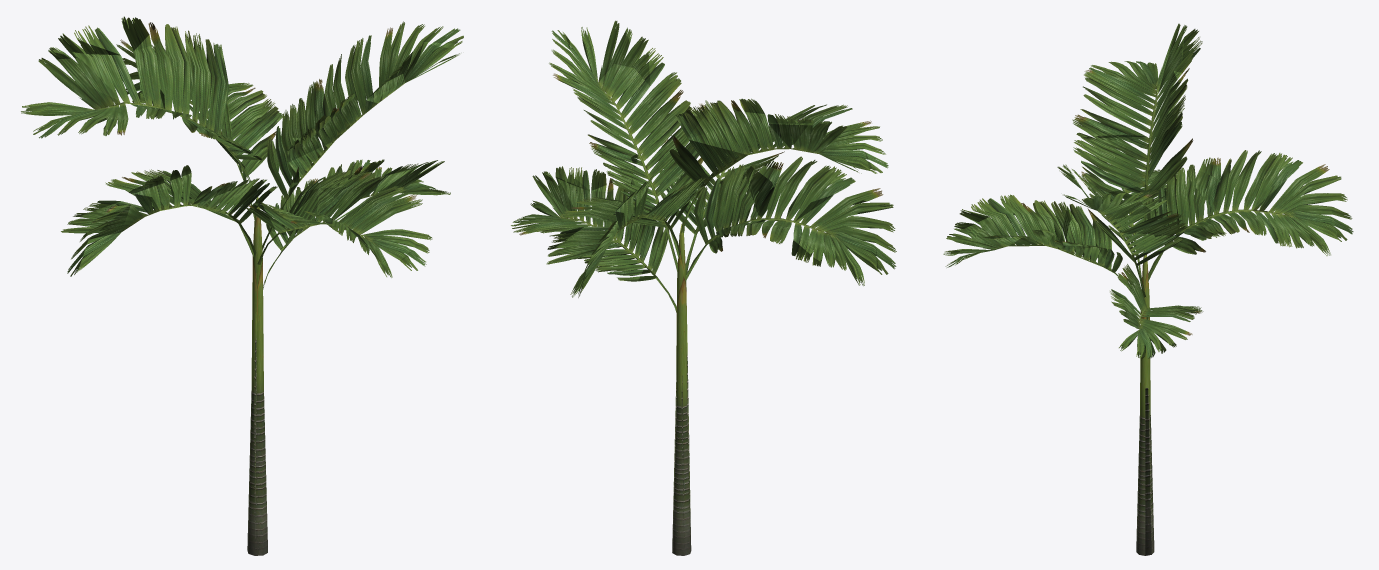
Rendered from MK4_ArecaPalm2.DAE.
The picture shows the model from 3 angles, left to right: view 1: azimuth 30°, elevation 25°; view 2: azimuth 150°, elevation 25°; view 3: azimuth 270°, elevation 25°; orthographic projection. The views are drawn at different scales.
Parts seen in each view (by area): view 1: MK4_ArecaPalmTwo150, MK4_ArecaPalmTwo20; view 2: MK4_ArecaPalmTwo150, MK4_ArecaPalmTwo20; view 3: MK4_ArecaPalmTwo150, MK4_ArecaPalmTwo20.
Boxes of the visible parts, bbox=[...] form: MK4_ArecaPalmTwo150: bbox=[21, 17, 463, 555]; MK4_ArecaPalmTwo20: bbox=[21, 16, 463, 537]; MK4_ArecaPalmTwo150: bbox=[513, 21, 896, 555]; MK4_ArecaPalmTwo20: bbox=[511, 20, 896, 549]; MK4_ArecaPalmTwo150: bbox=[943, 24, 1352, 555]; MK4_ArecaPalmTwo20: bbox=[944, 23, 1353, 555].
Size of what is drawn, in the model's own units: 7.57 by 8.02 by 9.6.
